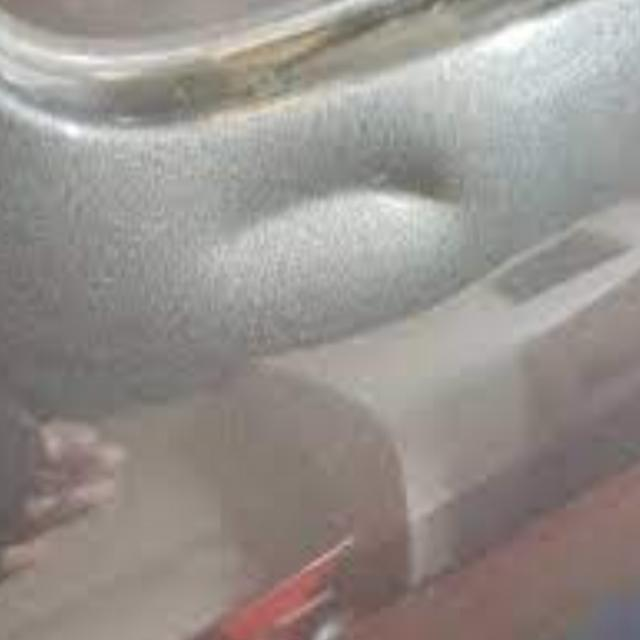dents: (203, 154, 490, 242)
